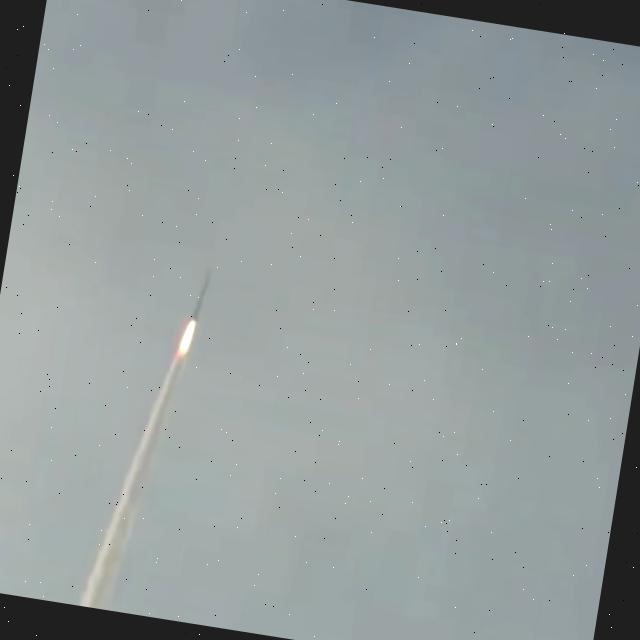rocket: (174, 271, 210, 358)
smoke_trail_with_rocket: (79, 272, 209, 609)
